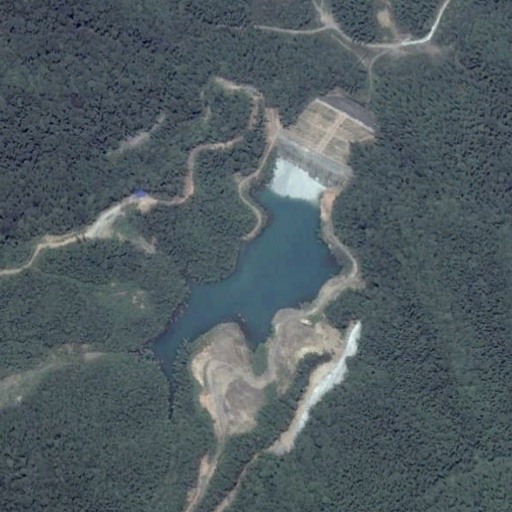tp: (150, 85, 381, 414)
